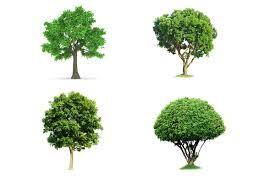plant: (156, 97, 226, 170), (42, 6, 106, 78), (45, 94, 101, 172), (154, 8, 217, 77)
